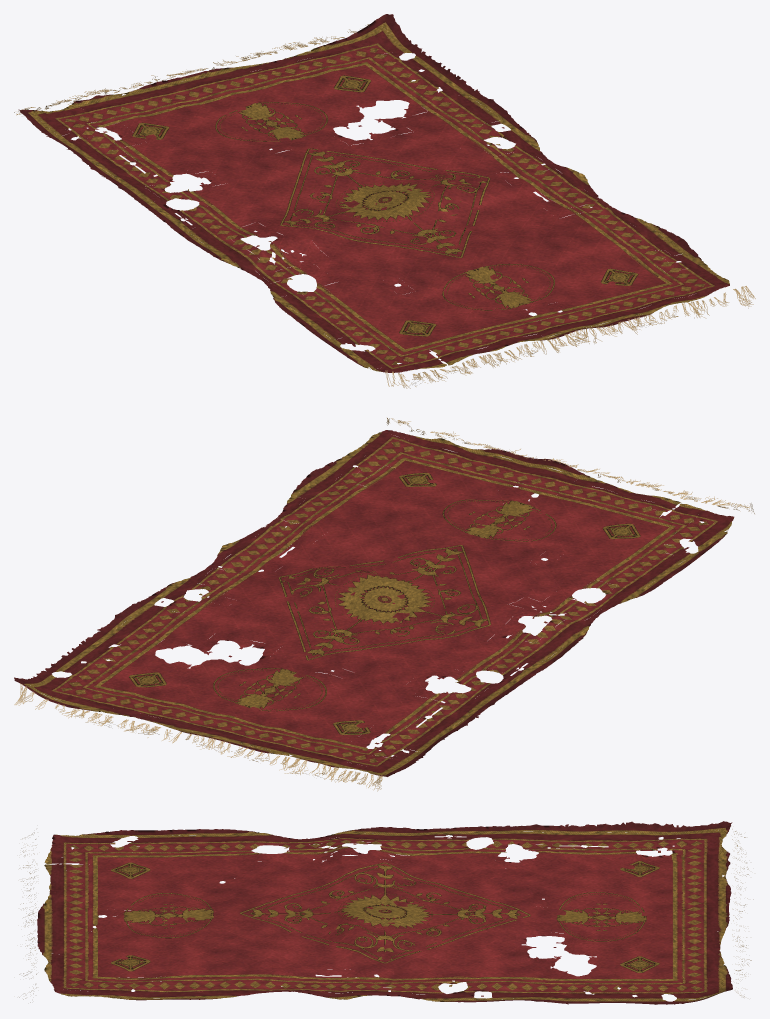
The model's file is SM_Cripta_Tapete.glb.
3 renders of one model, top to bottom at view 1: azimuth 30°, elevation 25°; view 2: azimuth 150°, elevation 25°; view 3: azimuth 270°, elevation 25°, orthographic. The views are drawn at different scales.
Visible parts, largest first — view 1: SM_Cripta_Tapete; view 2: SM_Cripta_Tapete; view 3: SM_Cripta_Tapete.
Boxes of the visible parts, <box> form: SM_Cripta_Tapete: <box>14,14,755,388</box>; SM_Cripta_Tapete: <box>14,418,754,791</box>; SM_Cripta_Tapete: <box>19,821,753,1004</box>.
Bounding box in the file's own units: 3.58 × 0.144 × 6.38.
5 materials, 4 textured.
